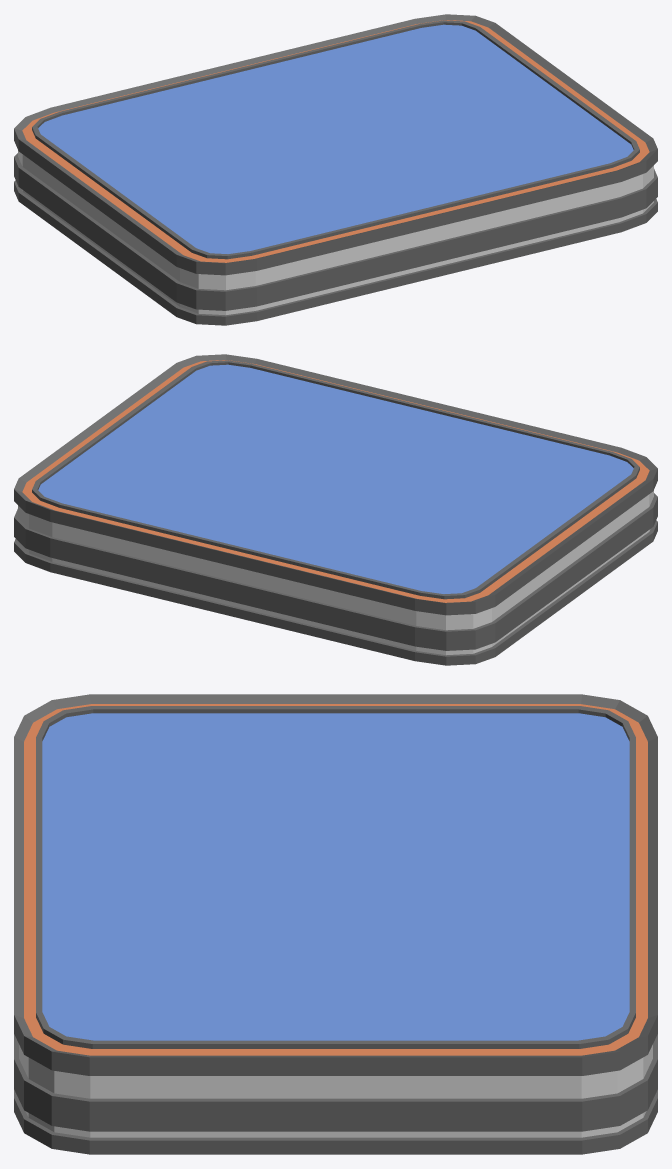
File: 3x4platform.fbx
3 renders of one model, top to bottom at view 1: azimuth 30°, elevation 25°; view 2: azimuth 150°, elevation 25°; view 3: azimuth 270°, elevation 25°, orthographic. The views are drawn at different scales.
Parts seen in each view (by area): view 1: Cube; view 2: Cube; view 3: Cube.
Part boxes in pixels (bbox=[...]): Cube: bbox=[14, 14, 657, 325]; Cube: bbox=[14, 354, 657, 665]; Cube: bbox=[14, 694, 657, 1154].
Bounding box in the file's own units: 400 × 50.45 × 300.
